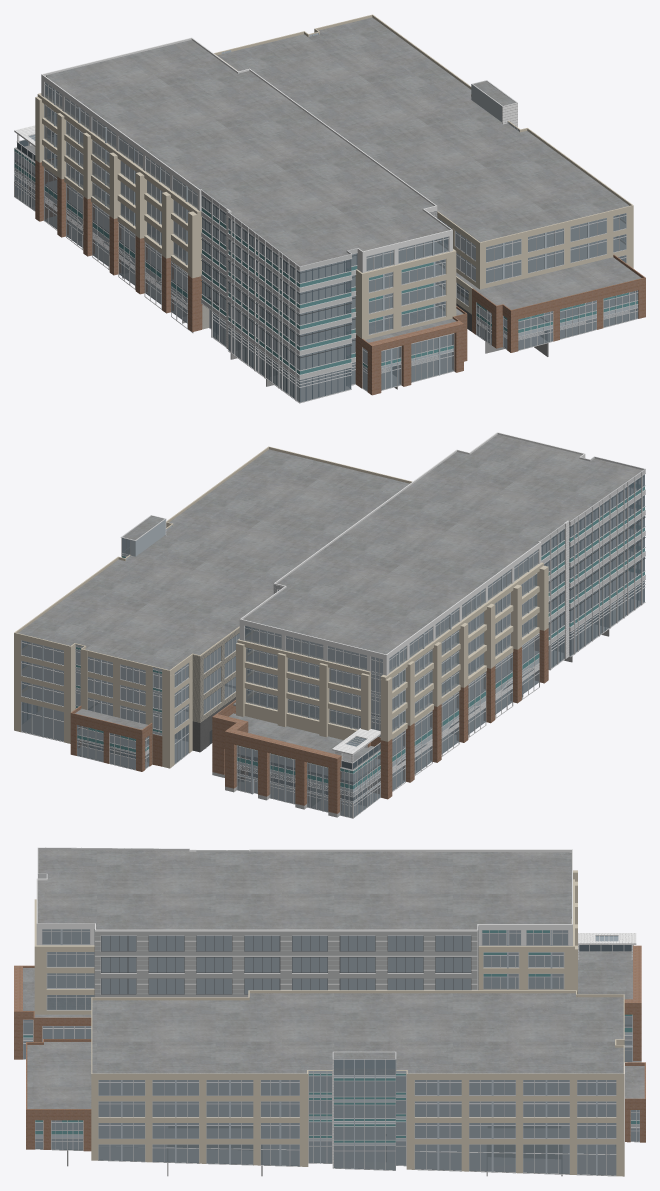
3 views of the same model, one above another, from view 1: azimuth 30°, elevation 25°; view 2: azimuth 150°, elevation 25°; view 3: azimuth 270°, elevation 25° (orthographic). The views are drawn at different scales.
Visible parts, largest first — view 1: BD3669, BD3686, BD3658, BD3663, BD3668, BD3662, BD3660, BD3678, BD3675, BD3685, BD3659, BD3665 (+8 smaller); view 2: BD3669, BD3686, BD3658, BD3663, BD3662, BD3668, BD3675, BD3678, BD3660, BD3685, BD3674, BD3665 (+9 smaller); view 3: BD3686, BD3669, BD3678, BD3685, BD3658, BD3675, BD3668, BD3665, BD3670, BD3674, BD3662, BD3684 (+6 smaller).
Part boxes in pixels (bbox=[...]): BD3669: bbox=[15, 40, 463, 345]; BD3686: bbox=[217, 17, 641, 309]; BD3658: bbox=[14, 82, 453, 402]; BD3663: bbox=[14, 82, 454, 403]; BD3668: bbox=[15, 75, 453, 401]; BD3662: bbox=[35, 93, 456, 339]; BD3660: bbox=[29, 157, 467, 395]; BD3678: bbox=[437, 213, 637, 350]; BD3675: bbox=[214, 14, 633, 326]; BD3685: bbox=[438, 216, 637, 356]; BD3659: bbox=[14, 149, 453, 374]; BD3665: bbox=[41, 37, 452, 272]; BD3669: bbox=[229, 434, 642, 770]; BD3686: bbox=[18, 449, 409, 729]; BD3658: bbox=[237, 474, 644, 817]; BD3663: bbox=[236, 456, 645, 818]; BD3662: bbox=[236, 562, 548, 742]; BD3668: bbox=[233, 488, 643, 817]; BD3675: bbox=[14, 446, 412, 768]; BD3678: bbox=[21, 538, 239, 769]; BD3660: bbox=[212, 628, 548, 813]; BD3685: bbox=[22, 633, 239, 769]; BD3674: bbox=[21, 515, 236, 770]; BD3665: bbox=[239, 432, 585, 675]; BD3686: bbox=[27, 993, 644, 1108]; BD3669: bbox=[23, 849, 632, 1017]; BD3678: bbox=[35, 1059, 639, 1175]; BD3685: bbox=[35, 1076, 639, 1176]; BD3658: bbox=[23, 929, 632, 1062]; BD3675: bbox=[91, 990, 624, 1176]; BD3668: bbox=[23, 917, 631, 1061]; BD3665: bbox=[36, 849, 572, 997]; BD3670: bbox=[94, 926, 478, 996]; BD3674: bbox=[35, 1051, 639, 1176]; BD3662: bbox=[34, 870, 577, 1014]; BD3684: bbox=[35, 1059, 597, 1175].
Bounding box in the file's own units: 72.99 × 27.84 × 107.
